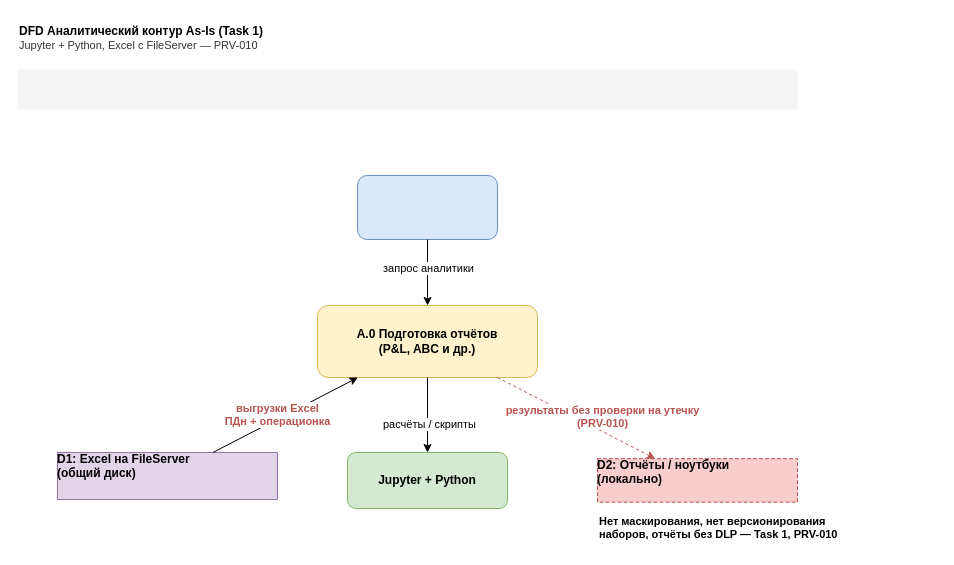
Image size: 954x565. Some labels were removed from this diagram. Each missing label, with the box of its shape:
Business analyst (IT): (356, 174, 498, 240)
Легенда: Красный / пунктир — риск утечки; PRV-010.: (17, 69, 797, 109)
